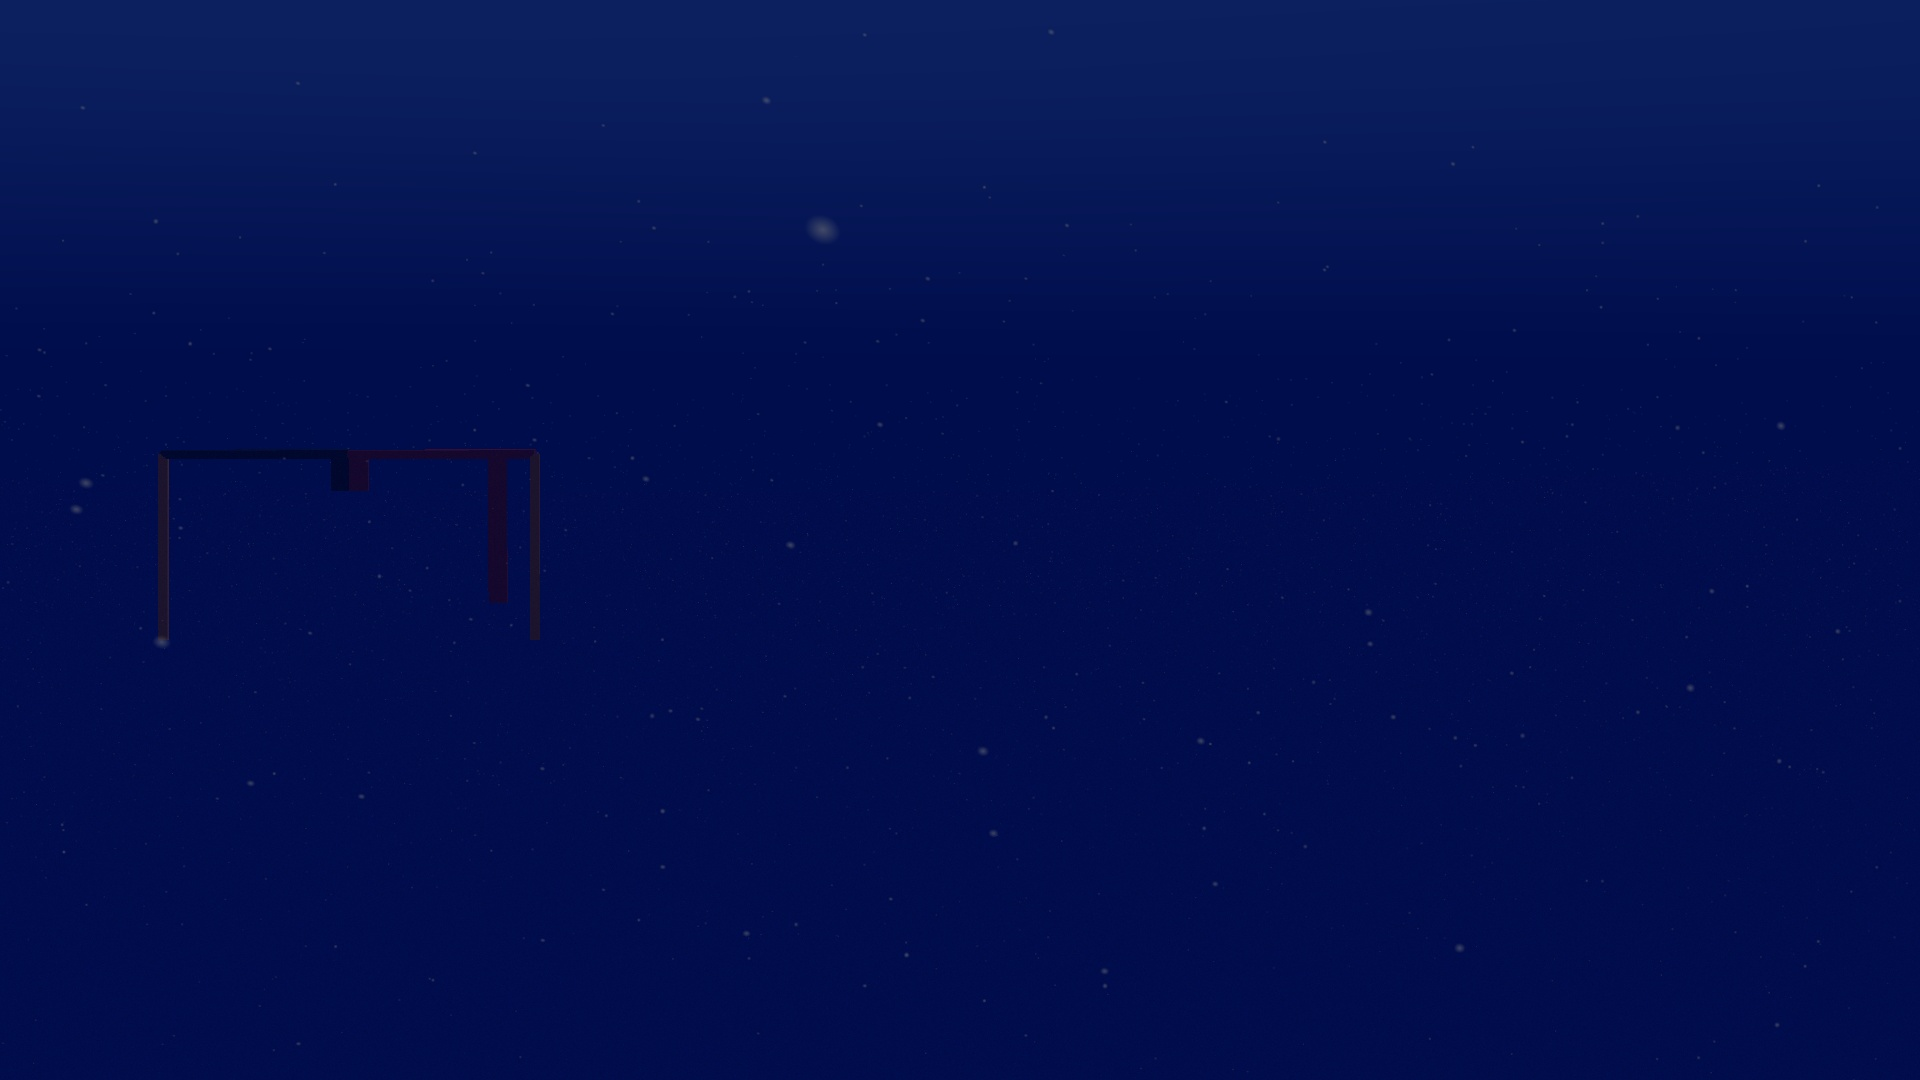Gate: (148, 438, 549, 651)
